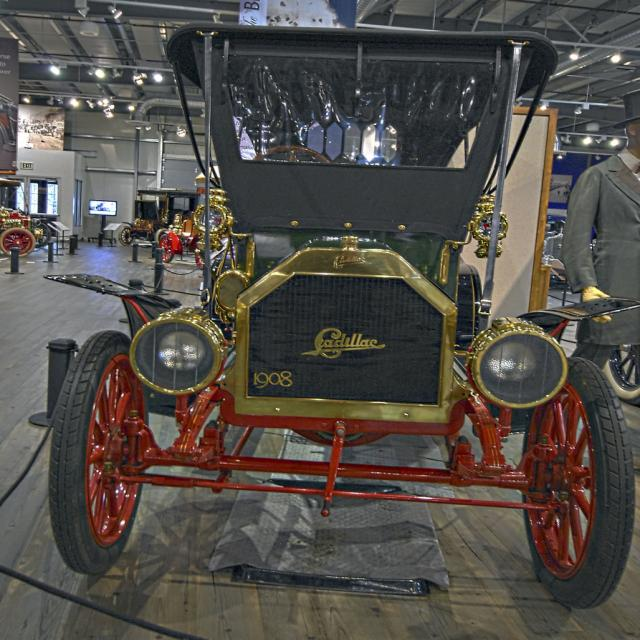car: (46, 26, 636, 609)
